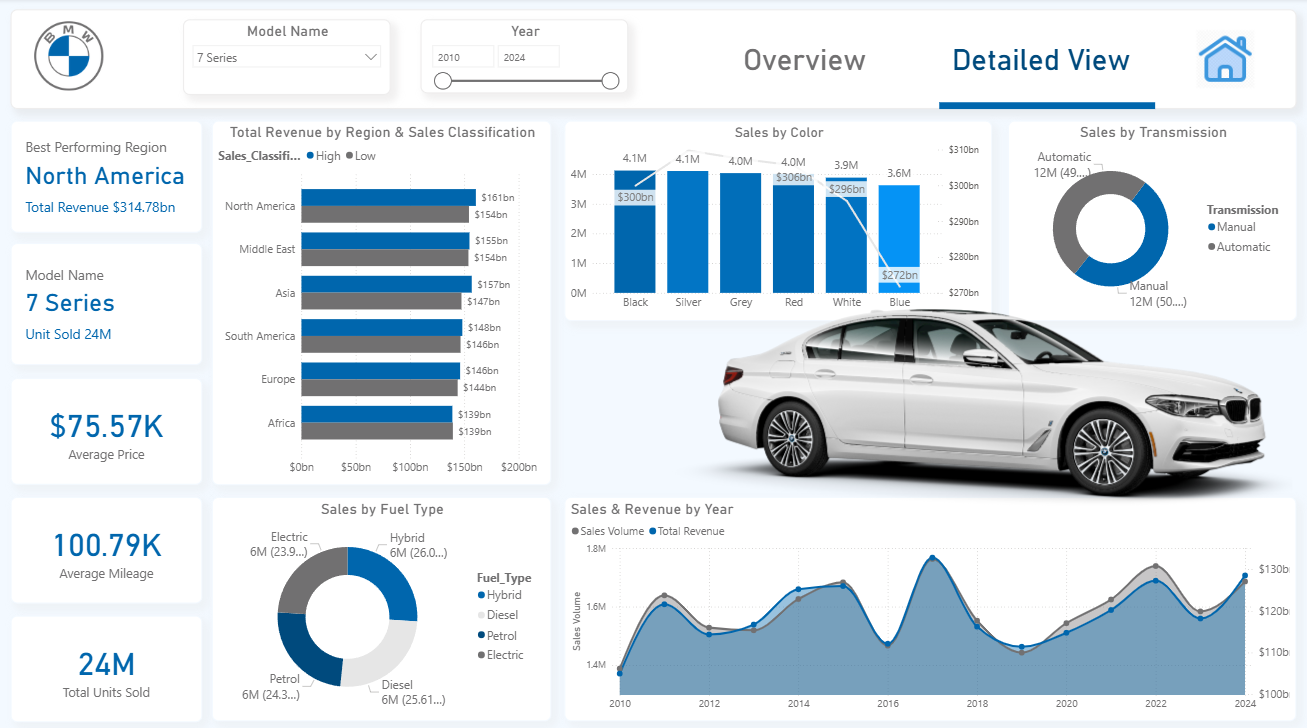

The page's visual inventory and layout, read from the dashboard file:
{"tool":"powerbi","page":{"name":"Detailed View","canvas":[1920,1080],"ordinal":2},"visuals":[{"type":"cardVisual","fields":{"Data":["Min(BMW_Car_Sales_Classification.Region)"]},"box":[18.5,179.1,282,164.7],"z":0},{"type":"card","fields":{"Values":["Measures Table.Average Price"]},"box":[18.5,557.8,282,156.4],"z":1000},{"type":"cardVisual","fields":{"Data":["Min(BMW_Car_Sales_Classification.Model)"]},"box":[18.5,360.2,282,179.1],"z":2000},{"type":"card","fields":{"Values":["Measures Table.Average Mileage"]},"box":[18.5,732.8,282,156.4],"z":3000},{"type":"shape","box":[18.5,16.5,1887.5,146.1],"z":4000},{"type":"card","fields":{"Values":["Measures Table.Total Units Sold"]},"box":[18.5,905.7,282,156.4],"z":5000},{"type":"image","box":[45.3,28.8,115.3,111.1],"z":6000},{"type":"textbox","box":[1035.3,59.7,298.5,80.3],"z":7000},{"type":"shape","box":[1381.1,113,317,88.5],"z":8000},{"type":"textbox","box":[1362.6,59.7,335.5,80.3],"z":9000},{"type":"image","box":[1751.6,35,98.8,109.1],"z":10000},{"type":"lineChart","title":"Sales & Revenue by Year","fields":{"Category":["BMW_Car_Sales_Classification.Year"],"Y":["Sum(BMW_Car_Sales_Classification.Sales_Volume)"],"Y2":["Measures Table.Total Revenue"]},"box":[831.6,732.8,1074.4,329.3],"z":11000},{"type":"lineStackedColumnComboChart","title":"Sales by Color","fields":{"Category":["BMW_Car_Sales_Classification.Color"],"Y":["Sum(BMW_Car_Sales_Classification.Sales_Volume)"],"Y2":["Measures Table.Total Revenue"]},"box":[831.6,179.1,627.8,294.3],"z":12000},{"type":"donutChart","title":"Sales by Fuel Type","fields":{"Category":["BMW_Car_Sales_Classification.Fuel_Type"],"Y":["Sum(BMW_Car_Sales_Classification.Sales_Volume)"]},"box":[312.9,732.8,498.1,329.3],"z":13000},{"type":"slicer","title":"Model Name","fields":{"Values":["BMW_Car_Sales_Classification.Model"]},"box":[271.7,30.9,304.6,111.1],"z":14000},{"type":"slicer","title":"Year","fields":{"Values":["BMW_Car_Sales_Classification.Year"]},"box":[619.6,30.9,304.6,109.1],"z":15000},{"type":"shape","box":[1035.3,20.6,298.5,144.1],"z":16000},{"type":"clusteredBarChart","title":"Total Revenue by Region & Sales Classification","fields":{"Category":["BMW_Car_Sales_Classification.Region"],"Y":["Measures Table.Total Revenue"],"Series":["BMW_Car_Sales_Classification.Sales_Classification"]},"box":[312.9,179.1,498.1,535.2],"z":17000},{"type":"donutChart","title":"Sales by Transmission","fields":{"Category":["BMW_Car_Sales_Classification.Transmission"],"Y":["Sum(BMW_Car_Sales_Classification.Sales_Volume)"]},"box":[1482,179.1,424,294.3],"z":18000},{"type":"imageDB603108E3FF4EBFB8047F5653368E8C","fields":{"imageUrl":["BMW Images.URL"],"imageTitle":["BMW_Car_Sales_Classification.Model"]},"box":[983.9,360.2,922.1,428.1],"z":19000}]}

Visuals, with their boxes in screenshot pixels (x1, y1, x2, y2), scaled from the page's 1920x1080 canvas onto the 1307x728 screenshot:
cardVisual - Min(BMW_Car_Sales_Classification.Region): BBox(13, 121, 205, 232)
card - Measures Table.Average Price: BBox(13, 376, 205, 481)
cardVisual - Min(BMW_Car_Sales_Classification.Model): BBox(13, 243, 205, 364)
card - Measures Table.Average Mileage: BBox(13, 494, 205, 599)
shape: BBox(13, 11, 1297, 110)
card - Measures Table.Total Units Sold: BBox(13, 611, 205, 716)
image: BBox(31, 19, 109, 94)
textbox: BBox(705, 40, 908, 94)
shape: BBox(940, 76, 1156, 136)
textbox: BBox(928, 40, 1156, 94)
image: BBox(1192, 24, 1260, 97)
"Sales & Revenue by Year" lineChart: BBox(566, 494, 1297, 716)
"Sales by Color" lineStackedColumnComboChart: BBox(566, 121, 993, 319)
"Sales by Fuel Type" donutChart: BBox(213, 494, 552, 716)
"Model Name" slicer: BBox(185, 21, 392, 96)
"Year" slicer: BBox(422, 21, 629, 94)
shape: BBox(705, 14, 908, 111)
"Total Revenue by Region & Sales Classification" clusteredBarChart: BBox(213, 121, 552, 481)
"Sales by Transmission" donutChart: BBox(1009, 121, 1297, 319)
imageDB603108E3FF4EBFB8047F5653368E8C - BMW Images.URL x BMW_Car_Sales_Classification.Model: BBox(670, 243, 1297, 531)
